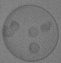small: (41, 20, 53, 33), (28, 42, 40, 53), (28, 26, 39, 38), (10, 21, 21, 31), (3, 29, 14, 37)
